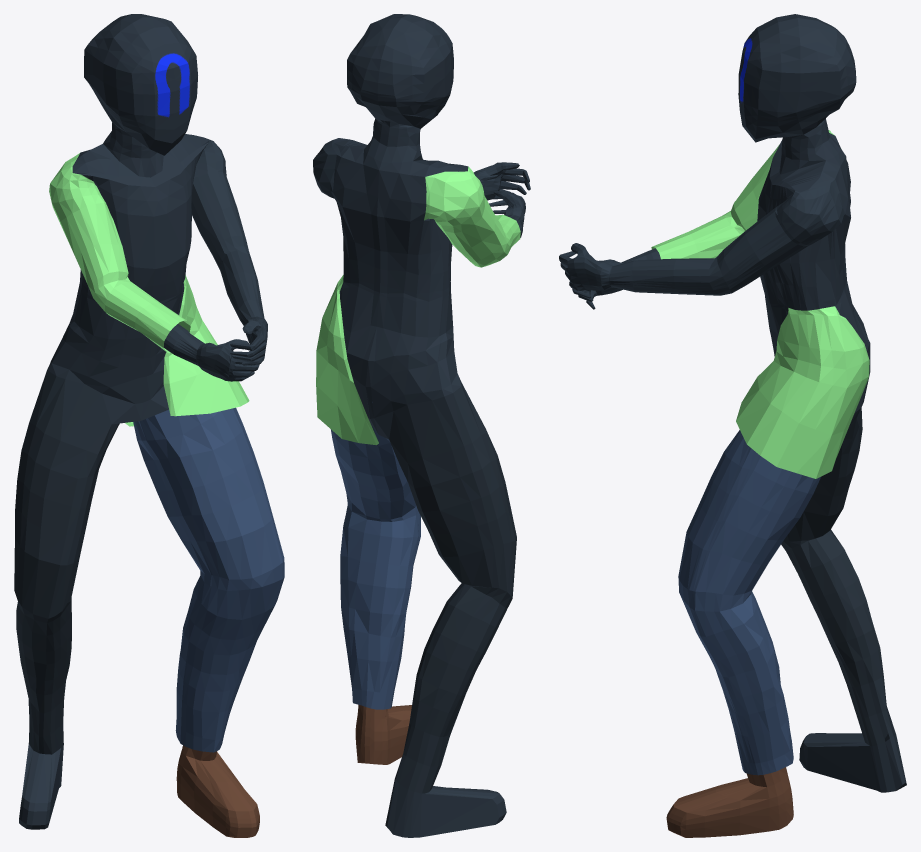
File: Mar_WF_000020.obj
3 renders of one model, left to right at view 1: azimuth 30°, elevation 25°; view 2: azimuth 150°, elevation 25°; view 3: azimuth 270°, elevation 25°, orthographic. The views are drawn at different scales.
Visible parts, largest first — view 1: Cube.000_Cube.001; view 2: Cube.000_Cube.001; view 3: Cube.000_Cube.001.
Boxes of the visible parts, <box> form: Cube.000_Cube.001: <box>14,14,284,837</box>; Cube.000_Cube.001: <box>313,14,530,837</box>; Cube.000_Cube.001: <box>559,14,906,837</box>.
Size of the model in its own units: 1.08 by 3.8 by 1.5.
